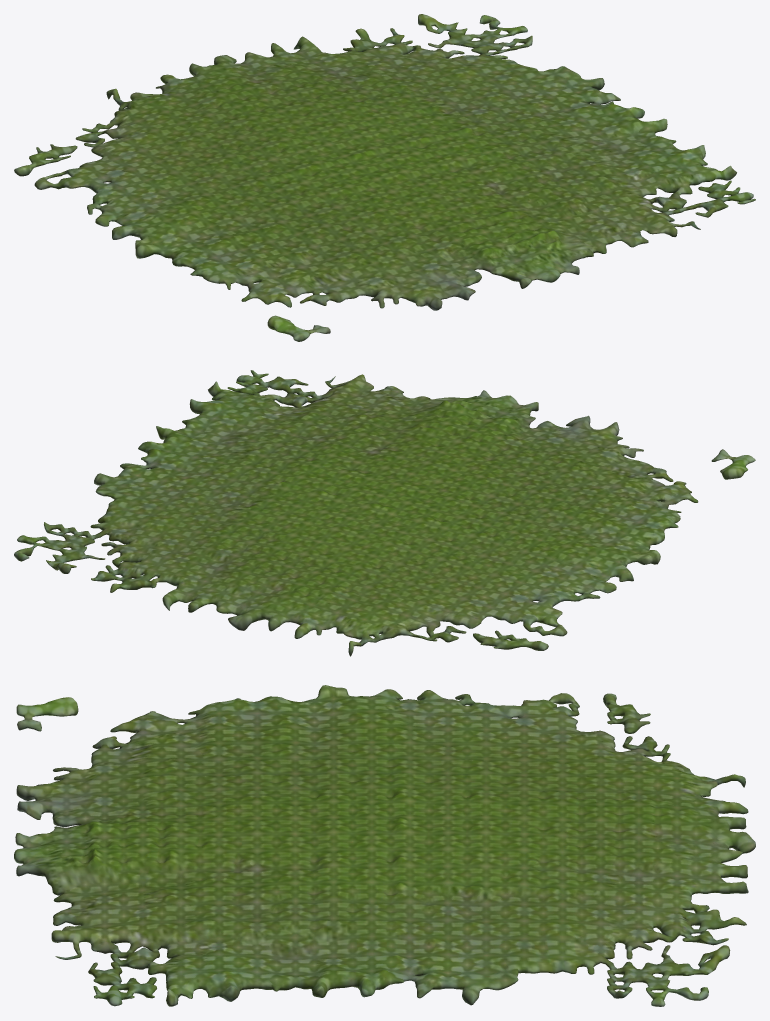
File: sueloVerde.glb
The picture shows the model from 3 angles, top to bottom: view 1: azimuth 30°, elevation 25°; view 2: azimuth 150°, elevation 25°; view 3: azimuth 270°, elevation 25°; orthographic projection. The views are drawn at different scales.
Parts seen in each view (by area): view 1: geometry_0; view 2: geometry_0; view 3: geometry_0.
Part boxes in pixels (x1,y1,x2,y2): geometry_0: (14,14,755,341); geometry_0: (14,370,755,656); geometry_0: (14,685,755,1006).
Size of the model in its own units: 0.7278 by 0.0347 by 0.7292.
Materials: 1 (1 with a texture image).
